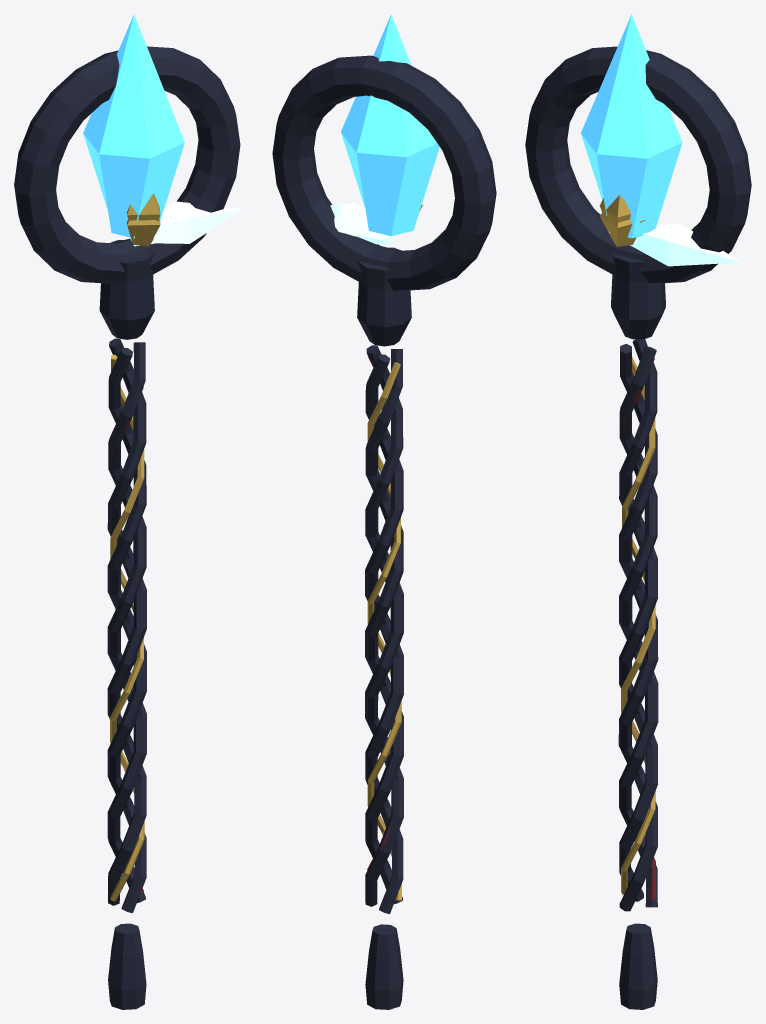
The model's file is staff_bluering.glb.
The picture shows the model from 3 angles, left to right: view 1: azimuth 30°, elevation 25°; view 2: azimuth 150°, elevation 25°; view 3: azimuth 330°, elevation 25°; orthographic projection.
Parts seen in each view (by area): view 1: Br_Hoop, Br_Crystal, Br_Dark1, Br_Dark0, Br_Dark2, Br_Neck, Br_Butt, Br_Gold, Br_Crystal2, Br_StarB; view 2: Br_Hoop, Br_Crystal, Br_Dark0, Br_Dark1, Br_Dark2, Br_Neck, Br_Butt, Br_Gold, Br_Crystal2; view 3: Br_Hoop, Br_Crystal, Br_Dark1, Br_Dark0, Br_Dark2, Br_Neck, Br_Butt, Br_Crystal2, Br_Gold, Br_StarB.
Part boxes in pixels (x1,y1,x2,y2): Br_Hoop: (14,46,240,283); Br_Crystal: (83,14,184,238); Br_Dark1: (107,338,146,905); Br_Dark0: (107,342,146,902); Br_Dark2: (107,348,146,913); Br_Neck: (99,240,154,339); Br_Butt: (108,923,146,1009); Br_Gold: (110,354,144,901); Br_Crystal2: (130,201,243,246); Br_StarB: (127,218,160,246); Br_Hoop: (272,55,496,290); Br_Crystal: (341,14,439,236); Br_Dark0: (365,345,403,906); Br_Dark1: (365,354,403,914); Br_Dark2: (365,349,403,903); Br_Neck: (357,247,411,346); Br_Butt: (365,924,403,1009); Br_Gold: (367,362,401,900); Br_Crystal2: (283,203,395,244); Br_Hoop: (525,46,751,283); Br_Crystal: (581,14,682,238); Br_Dark1: (619,339,657,901); Br_Dark0: (619,346,658,907); Br_Dark2: (618,344,658,911); Br_Neck: (611,254,665,339); Br_Butt: (619,923,657,1009); Br_Crystal2: (630,224,741,266); Br_Gold: (621,357,655,894); Br_StarB: (600,212,645,246).
Bounding box in the file's own units: 0.566 × 2.42 × 0.2248.
